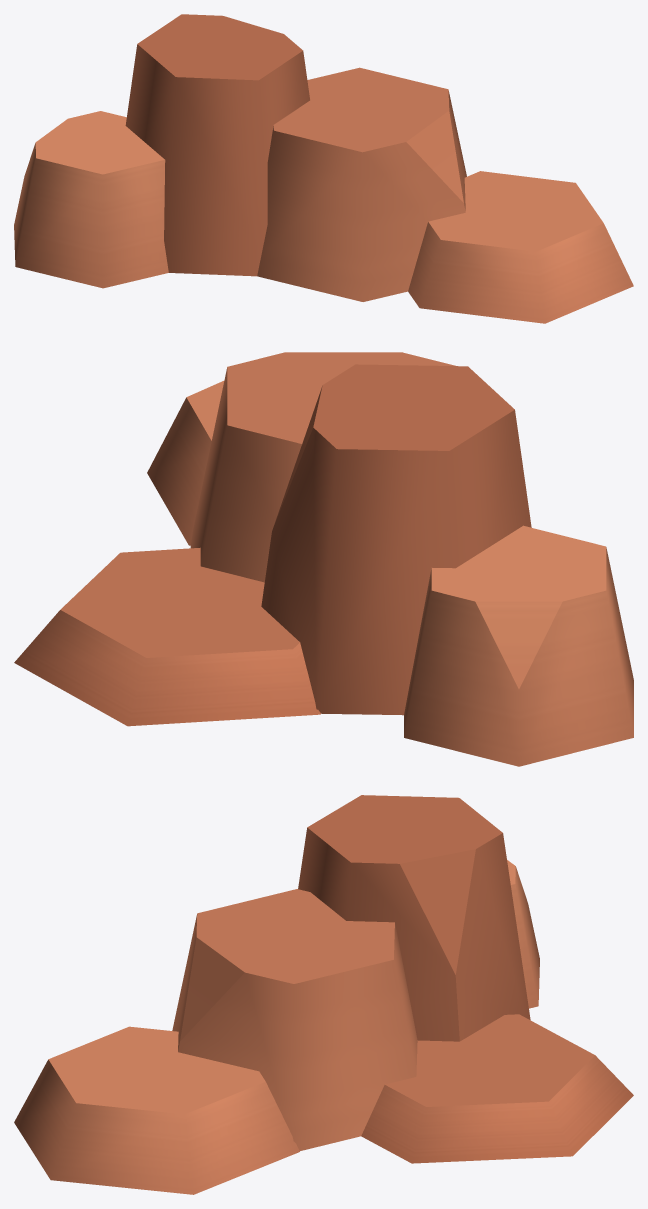
The model's file is detail-dirt.fbx.
3 renders of one model, top to bottom at view 1: azimuth 30°, elevation 25°; view 2: azimuth 150°, elevation 25°; view 3: azimuth 270°, elevation 25°, orthographic. The views are drawn at different scales.
Parts seen in each view (by area): view 1: detail-dirt; view 2: detail-dirt; view 3: detail-dirt.
Boxes of the visible parts, <box> form: detail-dirt: <box>14,14,633,323</box>; detail-dirt: <box>14,352,633,766</box>; detail-dirt: <box>14,795,633,1194</box>.
Size of the model in its own units: 70.28 by 26.53 by 71.2.
